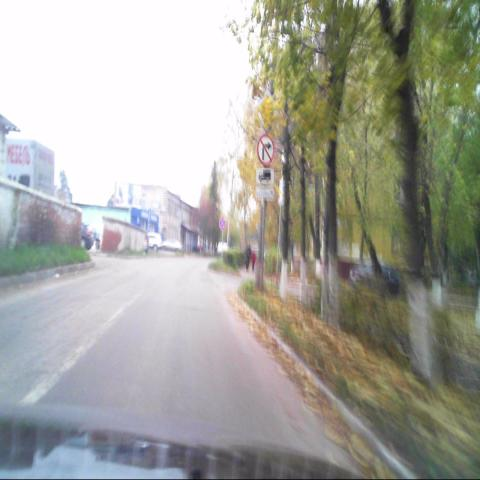3_18: (256, 134, 275, 165)
